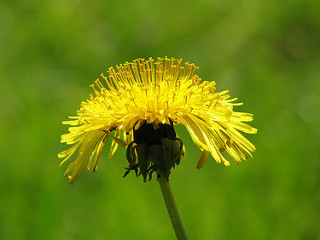dandelion: (47, 45, 266, 196)
